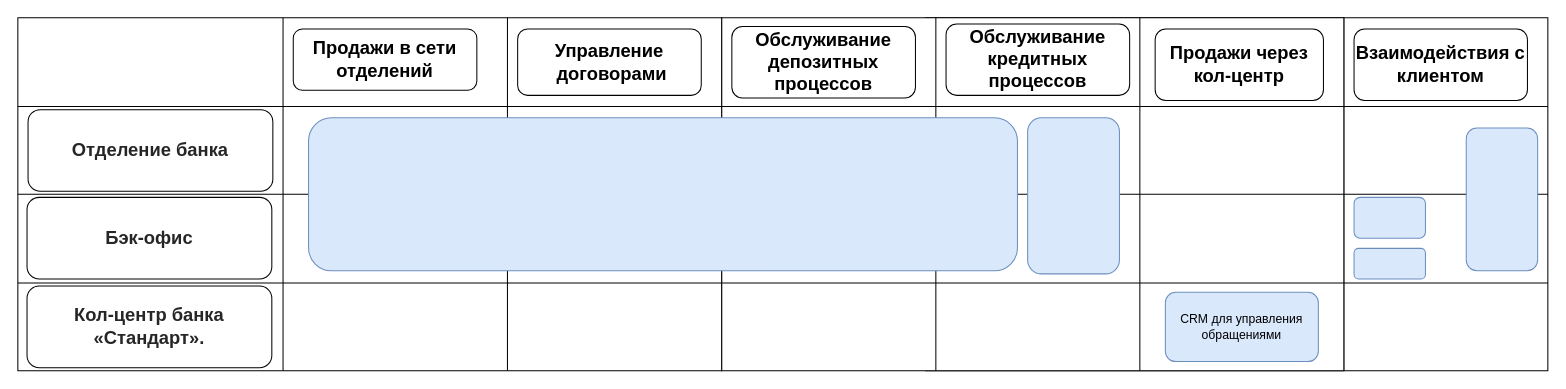
Some shapes in this 1566 by 389 pixel diagram are drawn without their labels. The centre of each missing label's shape, as x and y in pixels:
Excel: (1073,195)
АБС для работы с клиентами: (662,194)
интернет-банк: (1389,217)
сайт: (1389,263)
смс-шлюз: (1501,199)
